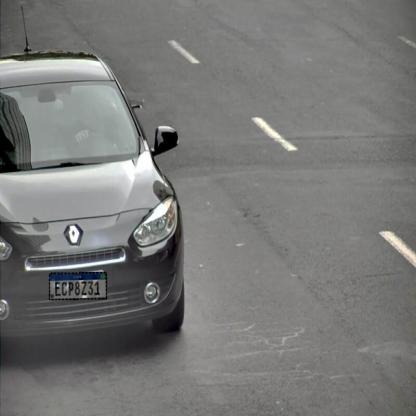PlacaM: (49, 272, 107, 300)
